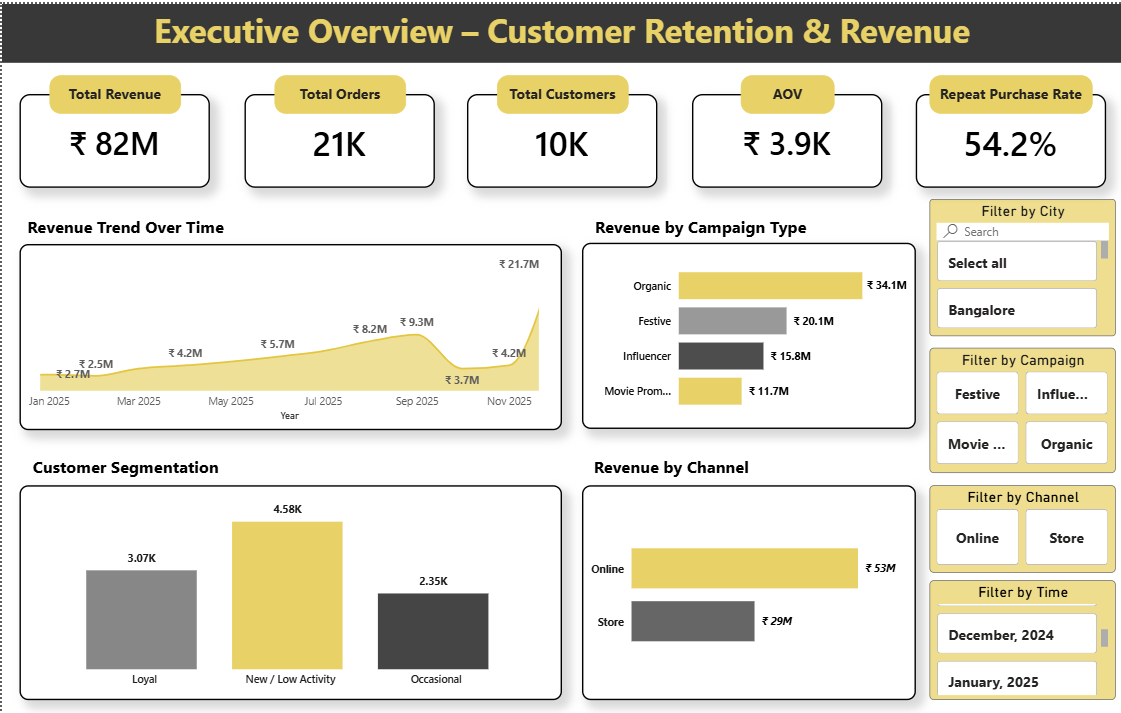

What the dashboard file says about the page in this screenshot:
{"tool":"powerbi","page":{"name":"Executive Overview","canvas":[1500,810],"ordinal":0},"visuals":[{"type":"cardVisual","fields":{"Data":["order_items.Total Revenue"]},"box":[20,102.9,204.3,107.1],"z":0},{"type":"textbox","box":[47.1,81.4,150,42.9],"z":1000},{"type":"cardVisual","fields":{"Data":["order_items.Total Orders"]},"box":[262.9,102.9,197.1,107.1],"z":2000},{"type":"cardVisual","fields":{"Data":["order_items.Total Customers"]},"box":[508.6,104.3,195.7,107.1],"z":3000},{"type":"cardVisual","fields":{"Data":["order_items.AOV"]},"box":[755.7,105.7,197.1,107.1],"z":4000},{"type":"cardVisual","fields":{"Data":["order_items.Repeat Purchase Rate"]},"box":[1001.4,105.7,215.7,107.1],"z":5000},{"type":"textbox","box":[287.1,81.4,150,42.9],"z":6000},{"type":"textbox","box":[532.9,81.4,150,42.9],"z":7000},{"type":"textbox","box":[801.4,81.4,107.1,42.9],"z":8000},{"type":"textbox","box":[1017.1,82.9,185.7,42.9],"z":9000},{"type":"textbox","box":[0,0,1500,67.1],"z":10000},{"type":"lineChart","fields":{"Y":["order_items.Total Revenue"],"Category":["orders.MonthYear.Variation.Date Hierarchy.Year","orders.MonthYear.Variation.Date Hierarchy.Month"]},"box":[21.4,272.9,618.6,212.9],"z":11000},{"type":"clusteredBarChart","fields":{"Category":["orders.order_channel"],"Y":["order_items.Total Revenue"]},"box":[522.9,550,345.7,245.7],"z":12000},{"type":"clusteredBarChart","fields":{"Category":["orders.campaign_type"],"Y":["order_items.Total Revenue"]},"box":[690,272.9,544.3,212.9],"z":13000},{"type":"clusteredColumnChart","fields":{"Category":["customers.Customer Segment"],"Y":["Count(customers.customer_id)"]},"box":[20,550,475.7,245.7],"z":14000},{"type":"advancedSlicerVisual","title":"Filter by Campaign","fields":{"Values":["orders.campaign_type"]},"box":[1272.9,392.9,212.9,142.9],"z":15000},{"type":"advancedSlicerVisual","title":"Filter by Channel","fields":{"Values":["orders.order_channel"]},"box":[1274.3,550,212.9,100],"z":16000},{"type":"advancedSlicerVisual","title":"Filter by Time","fields":{"Values":["orders.MonthYear"]},"box":[1274.3,658.6,212.9,137.1],"z":17000},{"type":"textbox","box":[20,237.1,242.9,48.6],"z":18000},{"type":"textbox","box":[587.1,511.4,204.3,48.6],"z":19000},{"type":"textbox","box":[691.4,237.1,271.4,48.6],"z":20000},{"type":"textbox","box":[20,511.4,242.9,48.6],"z":21000},{"type":"advancedSlicerVisual","title":"Filter by City","fields":{"Values":["customers.city"]},"box":[1272.9,222.9,212.9,157.1],"z":22000},{"type":"cardVisual","fields":{"Data":["order_items.Avg Days to Repeat Purchase"]},"box":[1261.4,104.3,211.4,107.1],"z":23000},{"type":"textbox","box":[1274.3,84.3,185.7,42.9],"z":24000},{"type":"donutChart","fields":{"Category":["customers.Channel Type"],"Y":["orders.Avg Orders per Customer"]},"box":[898.6,550,341.4,245.7],"z":24001},{"type":"textbox","box":[908.6,511.4,317.1,48.6],"z":24002}]}

Visuals, with their boxes on the page's 1500x810 design canvas (x1, y1, x2, y2). These are canvas units, not pixel positions in the 1121x713 screenshot, which may show the page scaled, cropped or inside an application window:
cardVisual - order_items.Total Revenue: 20/103/224/210
textbox: 47/81/197/124
cardVisual - order_items.Total Orders: 263/103/460/210
cardVisual - order_items.Total Customers: 509/104/704/211
cardVisual - order_items.AOV: 756/106/953/213
cardVisual - order_items.Repeat Purchase Rate: 1001/106/1217/213
textbox: 287/81/437/124
textbox: 533/81/683/124
textbox: 801/81/908/124
textbox: 1017/83/1203/126
textbox: 0/0/1500/67
lineChart - order_items.Total Revenue x orders.MonthYear.Variation.Date Hierarchy.Year: 21/273/640/486
clusteredBarChart - orders.order_channel x order_items.Total Revenue: 523/550/869/796
clusteredBarChart - orders.campaign_type x order_items.Total Revenue: 690/273/1234/486
clusteredColumnChart - customers.Customer Segment x Count(customers.customer_id): 20/550/496/796
"Filter by Campaign" advancedSlicerVisual: 1273/393/1486/536
"Filter by Channel" advancedSlicerVisual: 1274/550/1487/650
"Filter by Time" advancedSlicerVisual: 1274/659/1487/796
textbox: 20/237/263/286
textbox: 587/511/791/560
textbox: 691/237/963/286
textbox: 20/511/263/560
"Filter by City" advancedSlicerVisual: 1273/223/1486/380
cardVisual - order_items.Avg Days to Repeat Purchase: 1261/104/1473/211
textbox: 1274/84/1460/127
donutChart - customers.Channel Type x orders.Avg Orders per Customer: 899/550/1240/796
textbox: 909/511/1226/560
